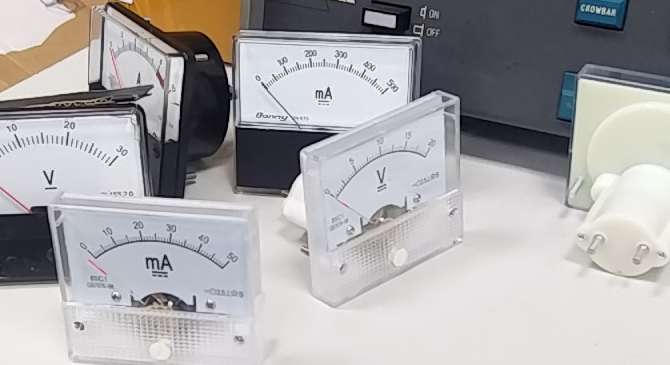Amp_Meter: (101, 3, 183, 101)
MilliAmp_Meter: (61, 209, 263, 322), (239, 37, 413, 117)
Volt_Meter: (324, 119, 447, 252), (1, 104, 146, 206)
